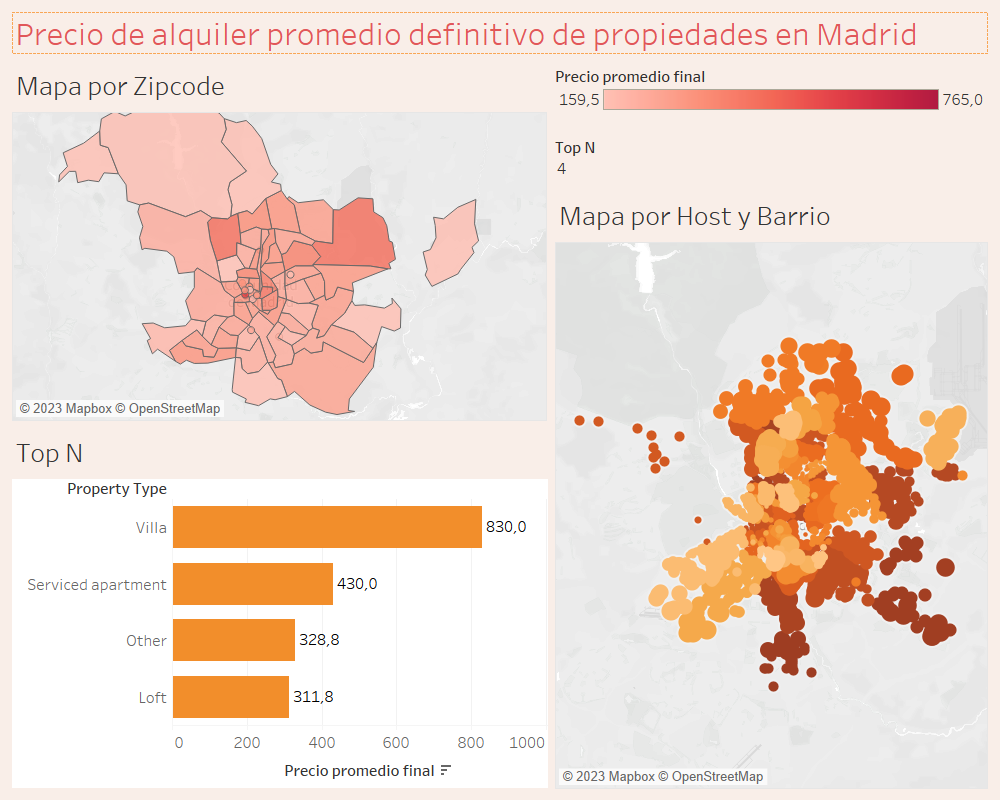

What the dashboard file says about the page in this screenshot:
{"tool":"tableau","page":{"name":"Precio de alquiler promedio definitivo de propiedades en Madrid","canvas":[1000,800],"ordinal":0},"visuals":[{"type":"title","box":[8,8,984,50]},{"type":"worksheet","title":"Mapa por Zipcode","mark":"Multipolygon","rows":["Calculation_569423928029618176"],"cols":["Calculation_569423928029716481"],"box":[8,58,543,367]},{"type":"legend","title":"Mapa por Zipcode","param":"[federated.0q3bnxw1xy6m1416r49wp0r4x9pc].[avg:Calculation_569423928031236098:qk]","box":[551,58,441,73]},{"type":"parameter","param":"[Parameters].[Parámetro 1]","box":[551,131,441,56]},{"type":"worksheet","title":"Mapa por Host y Barrio","mark":"Automatic","rows":["Calculation_569423928029618176"],"cols":["Calculation_569423928029716481"],"box":[551,187,441,605]},{"type":"worksheet","title":"Top N","mark":"Automatic","rows":["Property Type"],"cols":["Calculation_569423928031236098"],"box":[8,425,543,367]}]}

Visuals, with their boxes in screenshot pixels (x1, y1, x2, y2), scaled from the page's 1000x800 canvas onto the 1000x800 screenshot:
title: (8, 8, 992, 58)
"Mapa por Zipcode" worksheet (Multipolygon marks): (8, 58, 551, 425)
"Mapa por Zipcode" legend: (551, 58, 992, 131)
parameter: (551, 131, 992, 187)
"Mapa por Host y Barrio" worksheet: (551, 187, 992, 792)
"Top N" worksheet: (8, 425, 551, 792)
